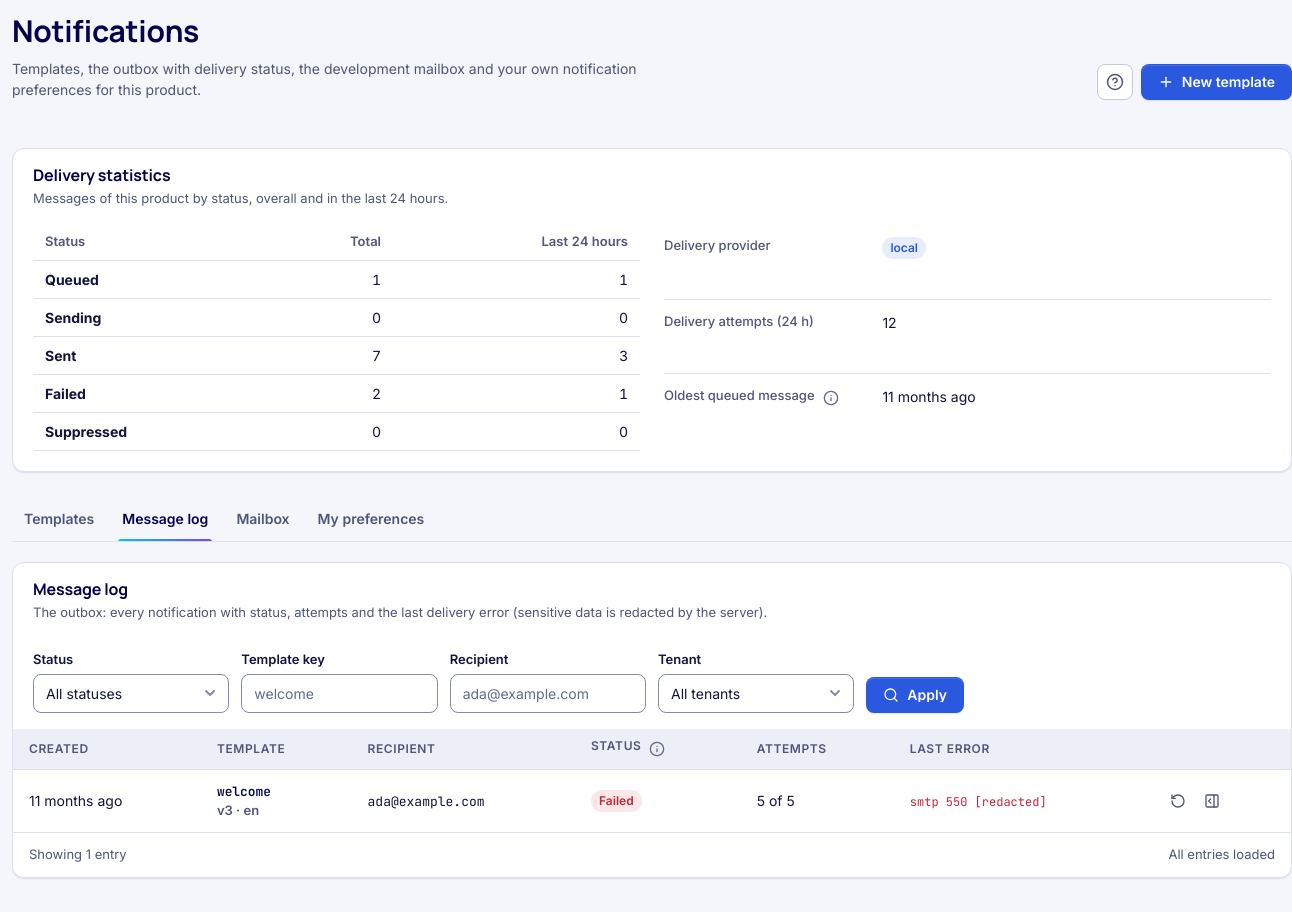
Test: NotificationsPage › shows the message log with attempts and redacted error, and retries a failed message
The width and height of the screenshot is (1292, 912).
Expected: the text "Failed" is shown, [591, 790, 642, 812]
Expected: the text "5 of 5" is shown, [741, 770, 894, 832]
Click the button named "Retry delivery of message msg_1" at (1178, 801), box [1163, 786, 1193, 816]
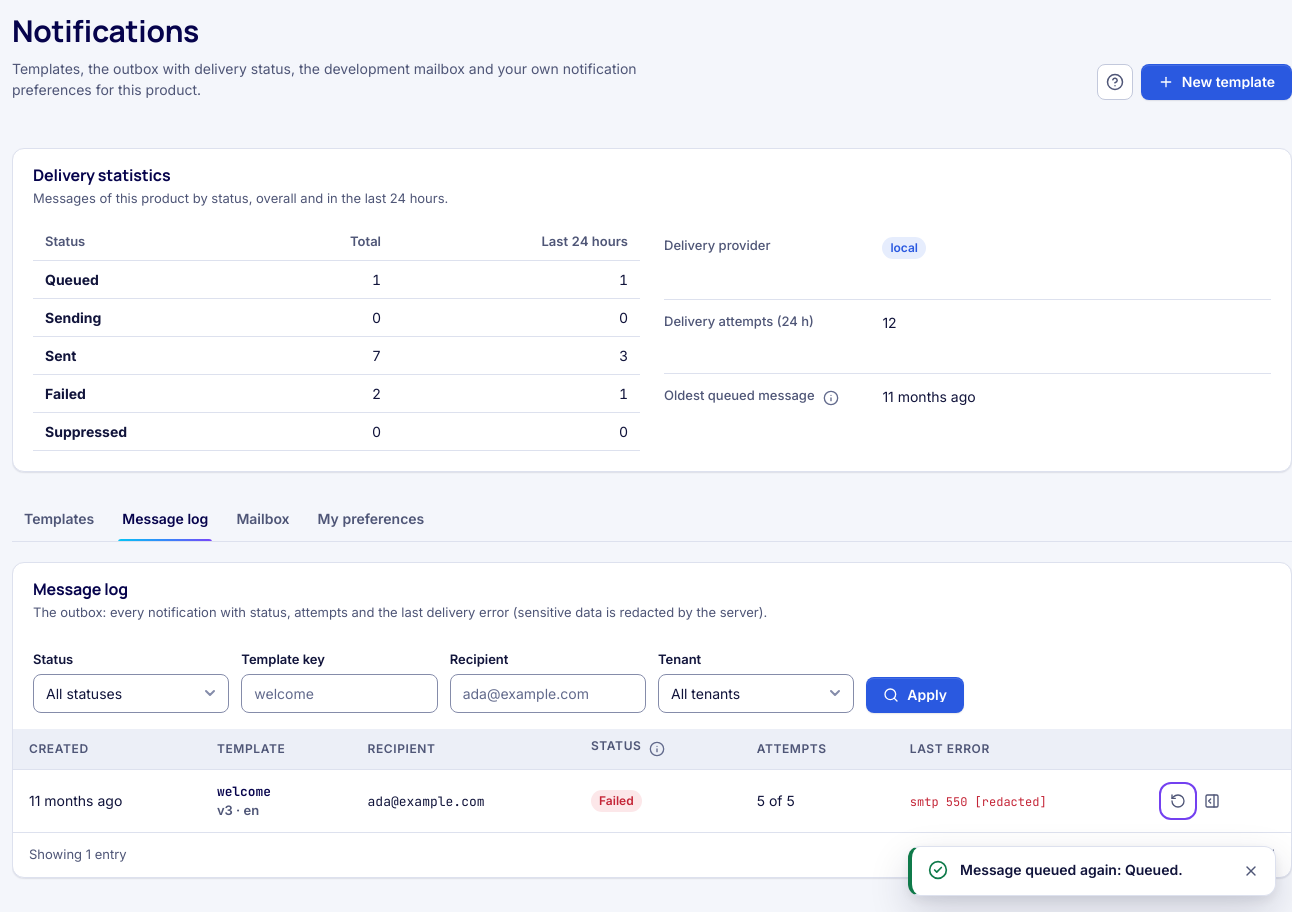
Expected: the text "Message queued again: Queued." is shown, [960, 861, 1183, 878]
